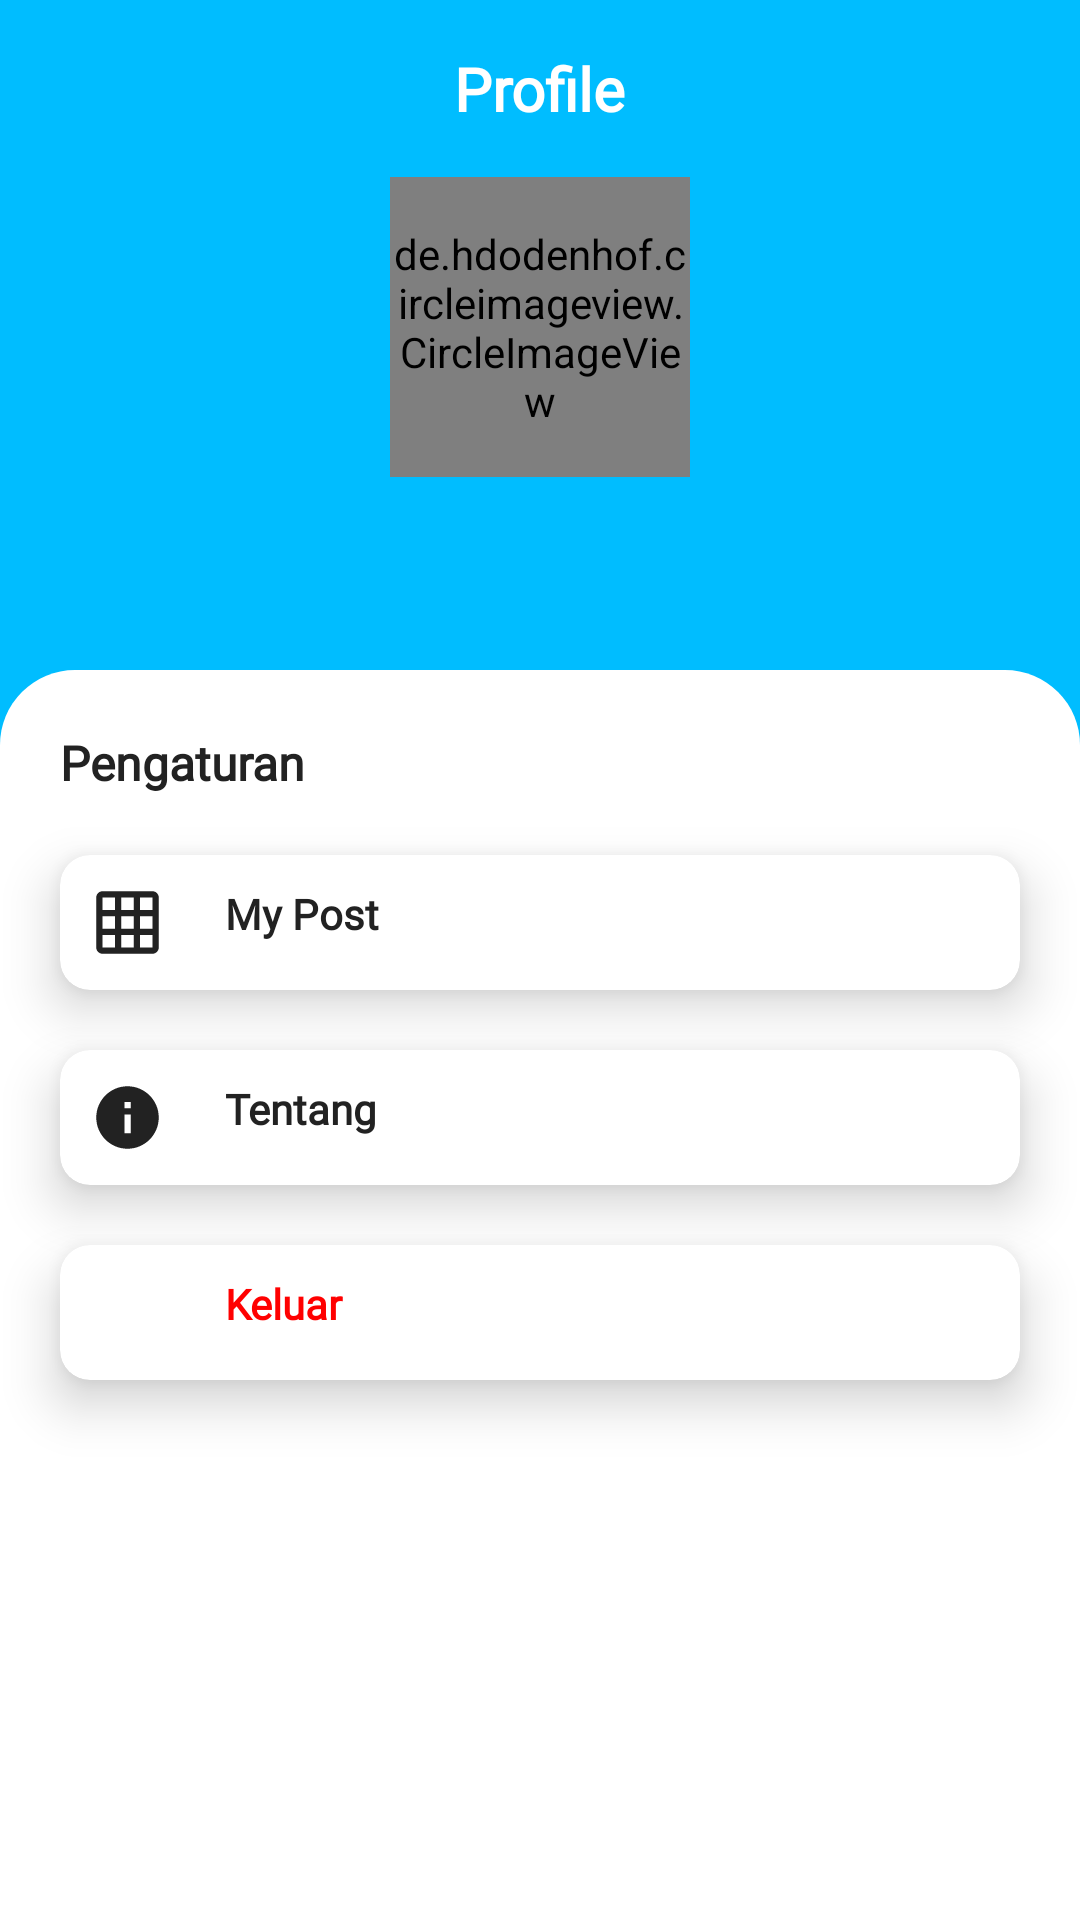

Named icons in this screenshot (1080 × 1920) and their bounding boxes, detection(x1, y1, x2, y2):
info: detection(96, 1086, 159, 1149)
